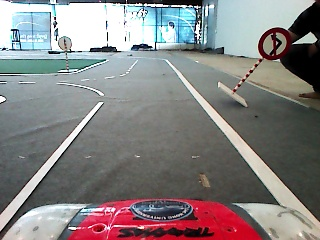ban: (256, 25, 292, 63)
